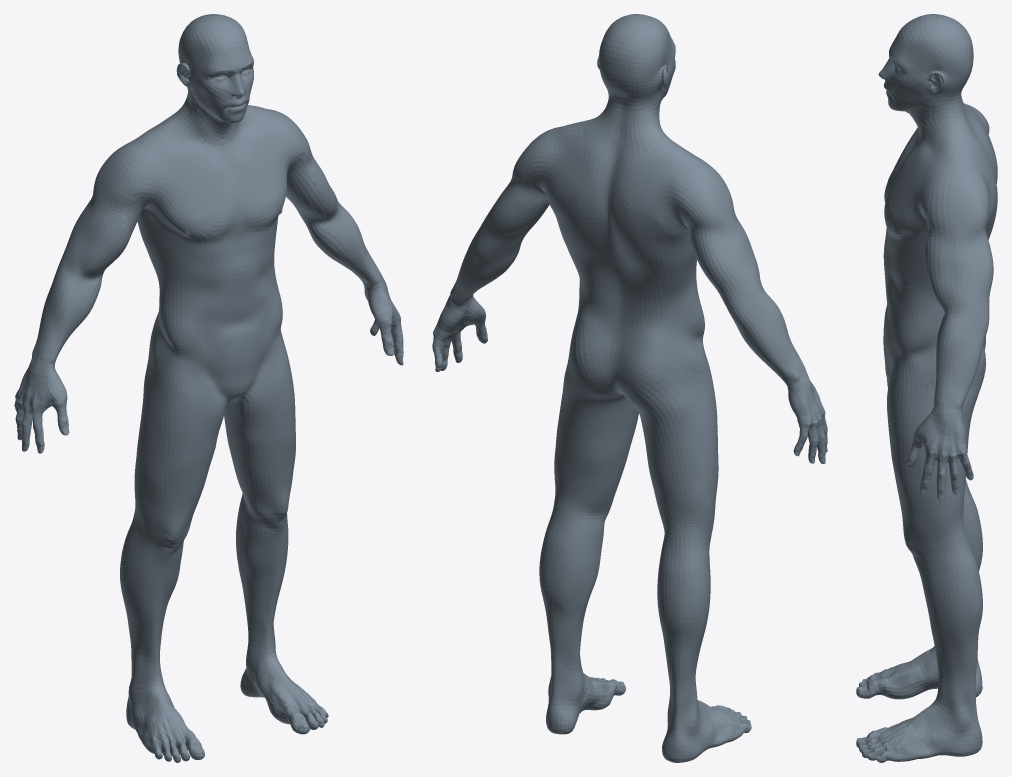
Rendered from base_personagem_manequim.glb.
The picture shows the model from 3 angles, left to right: view 1: azimuth 30°, elevation 25°; view 2: azimuth 150°, elevation 25°; view 3: azimuth 270°, elevation 25°; orthographic projection.
Parts seen in each view (by area): view 1: Part_000; view 2: Part_000; view 3: Part_000.
Part boxes in pixels (bbox=[...]): Part_000: bbox=[14, 14, 403, 762]; Part_000: bbox=[432, 14, 827, 762]; Part_000: bbox=[856, 14, 997, 762].
Bounding box in the file's own units: 1.01 × 1.79 × 0.3254.
